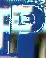Parking: (6, 1, 45, 53)
